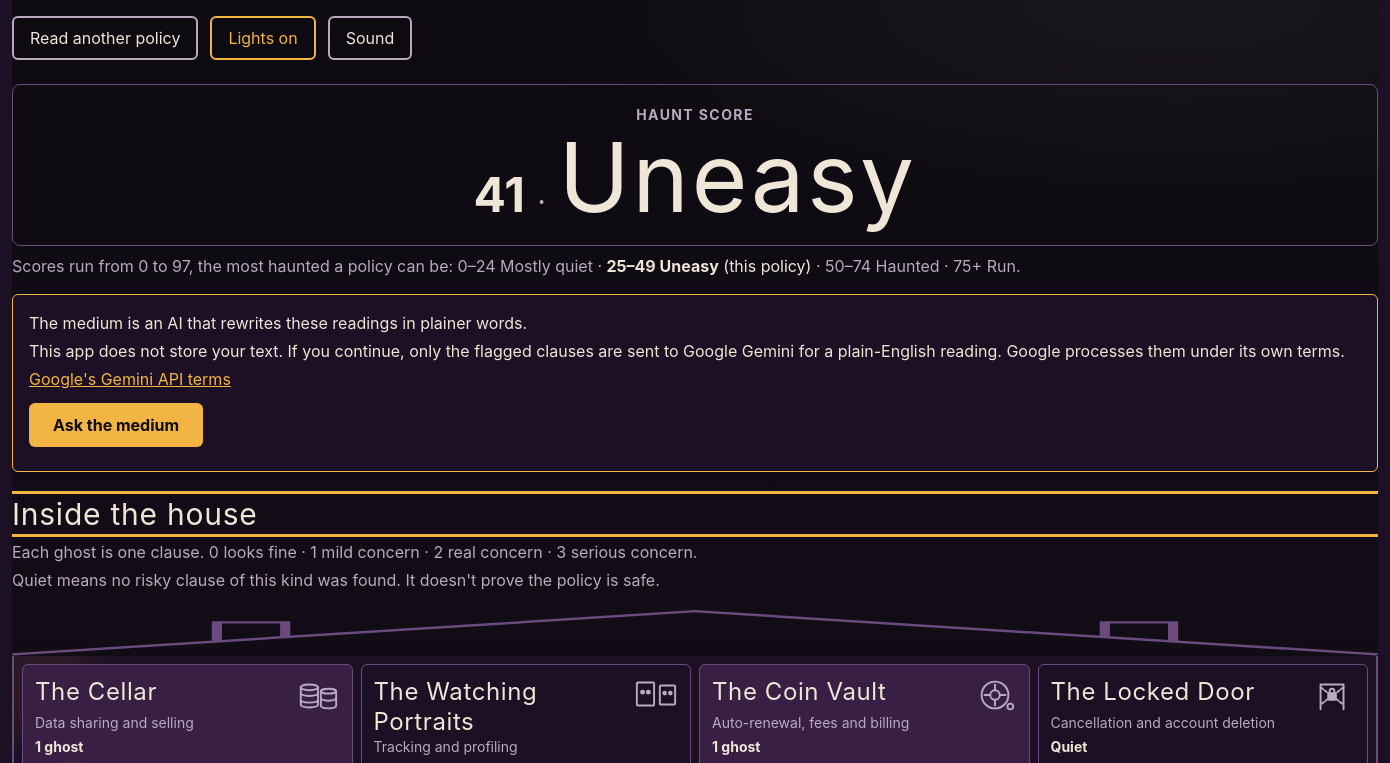
Test: OptInPanel (R14) › on rate-limited: keeps the rules, shows The medium needs a rest. Try again in a minute., re-enabled true (R14.6)
Click the button "Ask the medium" at (116, 425), box 29,403 -> 203,447
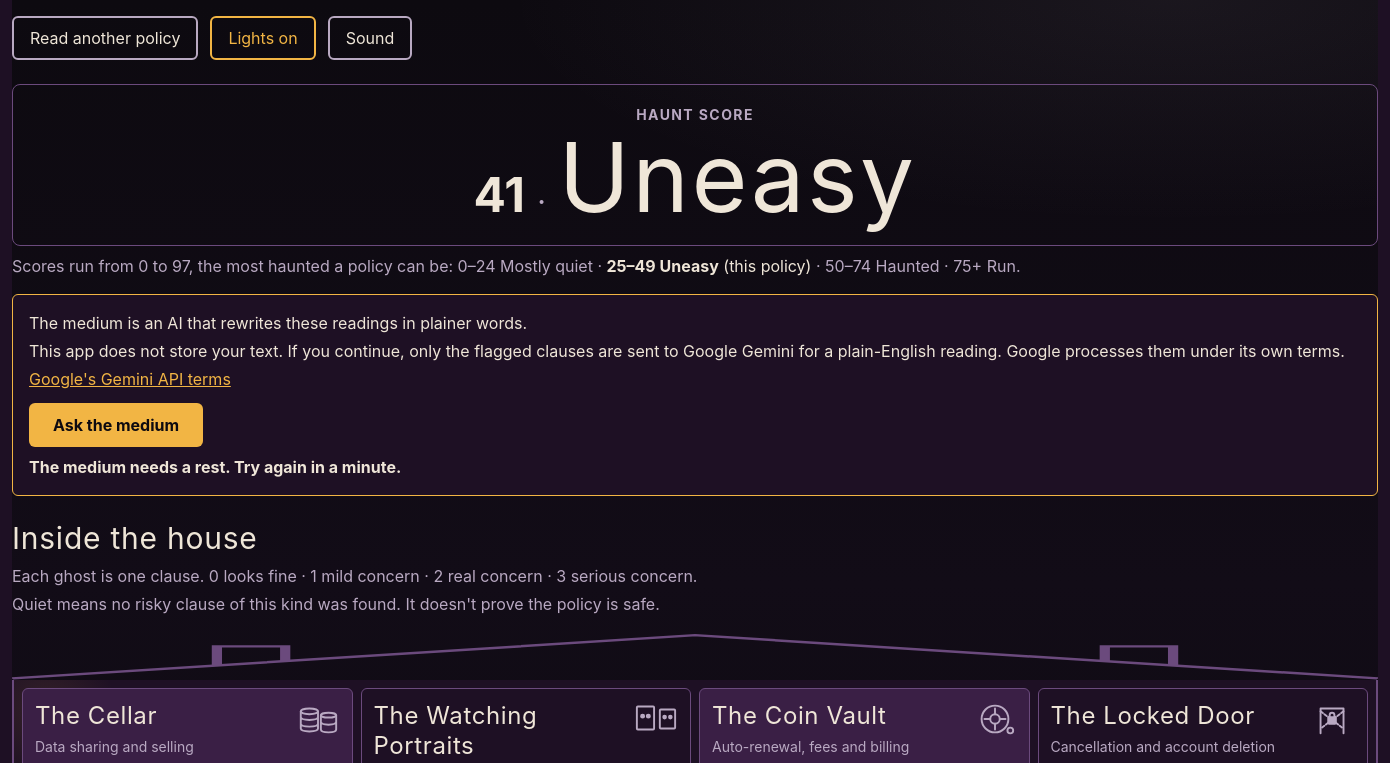
Expected: the text "The medium needs a rest. Try again in a minute." is shown, 29,457 -> 401,477
